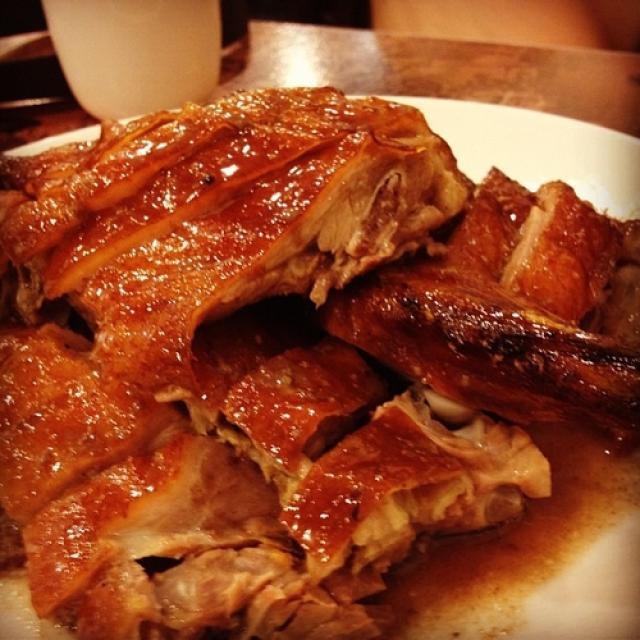烧串烤肉: (18, 52, 617, 621)
